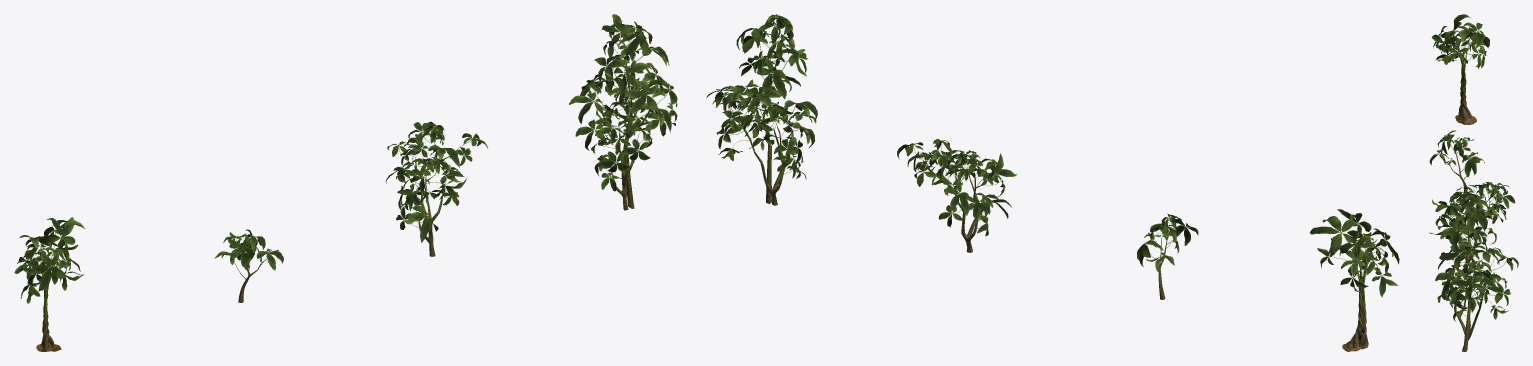
The model's file is pachira.glb.
3 renders of one model, left to right at view 1: azimuth 30°, elevation 25°; view 2: azimuth 150°, elevation 25°; view 3: azimuth 270°, elevation 25°, orthographic. The views are drawn at different scales.
Visible parts, largest first — view 1: pachira_aquatica_01_leaves_d, pachira_aquatica_01_leaves_c, pachira_aquatica_01_leaves_a, pachira_aquatica_01_leaves_b, pachira_aquatica_01_bark_d, pachira_aquatica_01_bark_a, pachira_aquatica_01_bark_c; view 2: pachira_aquatica_01_leaves_d, pachira_aquatica_01_leaves_c, pachira_aquatica_01_leaves_a, pachira_aquatica_01_leaves_b, pachira_aquatica_01_bark_d, pachira_aquatica_01_bark_a, pachira_aquatica_01_bark_c; view 3: pachira_aquatica_01_leaves_d, pachira_aquatica_01_leaves_c, pachira_aquatica_01_leaves_a, pachira_aquatica_01_leaves_b, pachira_aquatica_01_bark_d, pachira_aquatica_01_bark_a, pachira_aquatica_01_bark_c, pachira_aquatica_01_bark_b.
Part boxes in pixels (left/top/right/bottom): pachira_aquatica_01_leaves_d: left=569, top=14, right=677, bottom=191; pachira_aquatica_01_leaves_c: left=385, top=121, right=487, bottom=242; pachira_aquatica_01_leaves_a: left=14, top=217, right=84, bottom=303; pachira_aquatica_01_leaves_b: left=214, top=229, right=283, bottom=279; pachira_aquatica_01_bark_d: left=603, top=48, right=652, bottom=210; pachira_aquatica_01_bark_a: left=36, top=267, right=61, bottom=351; pachira_aquatica_01_bark_c: left=412, top=143, right=449, bottom=256; pachira_aquatica_01_leaves_d: left=706, top=14, right=817, bottom=179; pachira_aquatica_01_leaves_c: left=897, top=139, right=1016, bottom=236; pachira_aquatica_01_leaves_a: left=1310, top=209, right=1399, bottom=297; pachira_aquatica_01_leaves_b: left=1137, top=213, right=1198, bottom=274; pachira_aquatica_01_bark_d: left=729, top=44, right=792, bottom=205; pachira_aquatica_01_bark_a: left=1342, top=259, right=1368, bottom=351; pachira_aquatica_01_bark_c: left=923, top=160, right=984, bottom=252; pachira_aquatica_01_leaves_d: left=1429, top=190, right=1518, bottom=321; pachira_aquatica_01_leaves_c: left=1432, top=182, right=1515, bottom=244; pachira_aquatica_01_leaves_a: left=1431, top=14, right=1489, bottom=68; pachira_aquatica_01_leaves_b: left=1429, top=130, right=1484, bottom=179; pachira_aquatica_01_bark_d: left=1454, top=219, right=1485, bottom=351; pachira_aquatica_01_bark_a: left=1455, top=50, right=1476, bottom=124; pachira_aquatica_01_bark_c: left=1453, top=194, right=1497, bottom=268; pachira_aquatica_01_bark_b: left=1447, top=149, right=1467, bottom=195.
Bounding box in the file's own units: 6.87 × 1.9 × 0.997.
Materials: 2 (2 with a texture image).
